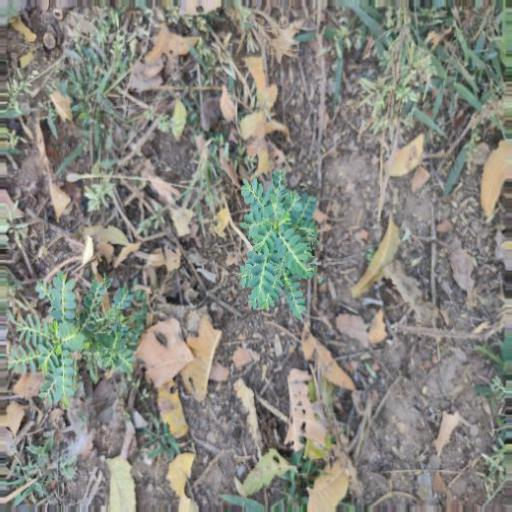weed: (9, 259, 162, 430), (234, 173, 325, 315)
